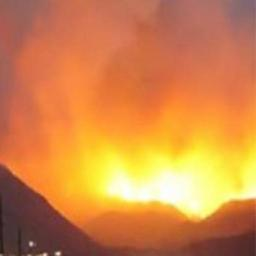Heavy smoke: (7, 5, 246, 132)
Large fire: (81, 146, 242, 228)
